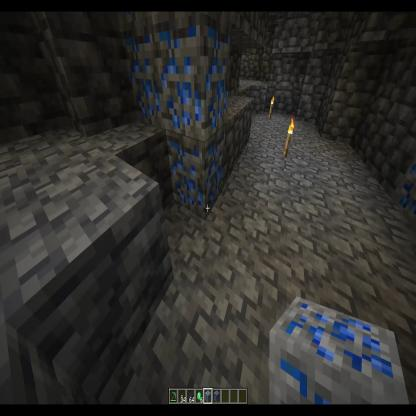lapis ore: (266, 296, 408, 408), (152, 19, 232, 136), (168, 125, 229, 218), (118, 26, 167, 130)
